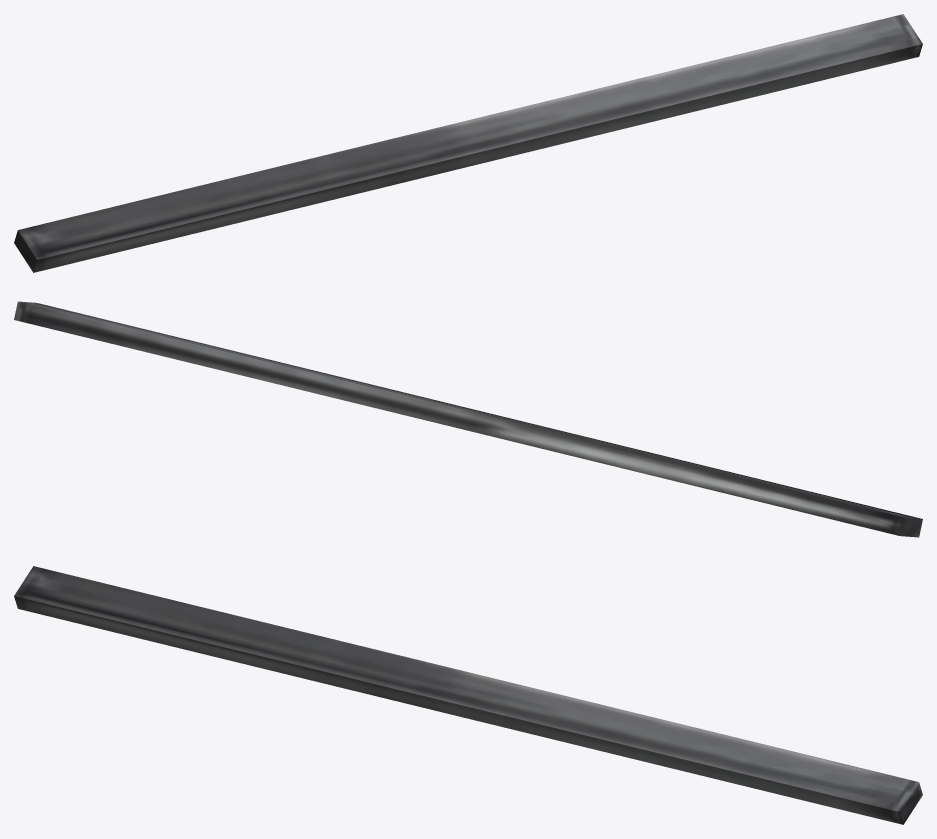
File: louver__slat_3.glb
3 views of the same model, one above another, from view 1: azimuth 30°, elevation 25°; view 2: azimuth 150°, elevation 25°; view 3: azimuth 330°, elevation 25° (orthographic).
Visible parts, largest first — view 1: geometry_0; view 2: geometry_0; view 3: geometry_0.
Part boxes in pixels (left/top/right/bottom): geometry_0: left=14, top=14, right=922, bottom=272; geometry_0: left=14, top=301, right=922, bottom=537; geometry_0: left=14, top=566, right=922, bottom=824.
Bounding box in the file's own units: 0.216 × 0.00731 × 0.00985.
Materials: 1 (1 with a texture image).
